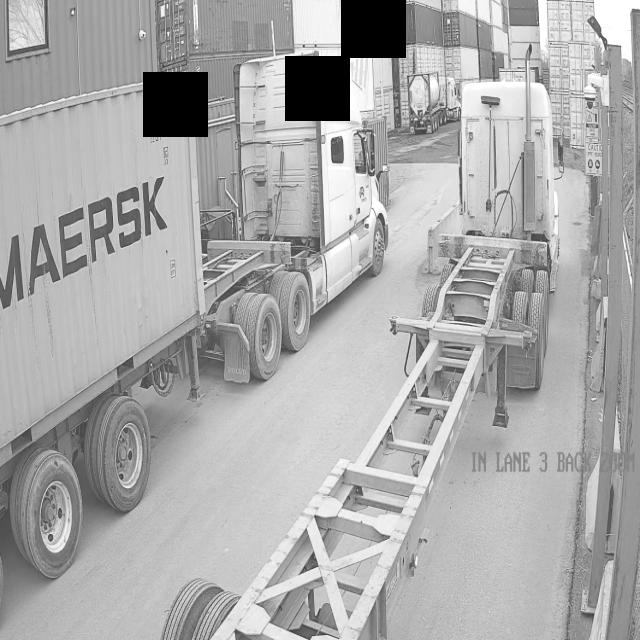container_company_logo: (0, 177, 167, 309)
container_number: (144, 97, 176, 168)
truck_with_container: (0, 50, 389, 577), (27, 207, 88, 296), (116, 181, 167, 247), (87, 198, 115, 262), (0, 234, 23, 310)
truck_without_container: (161, 73, 564, 640)
